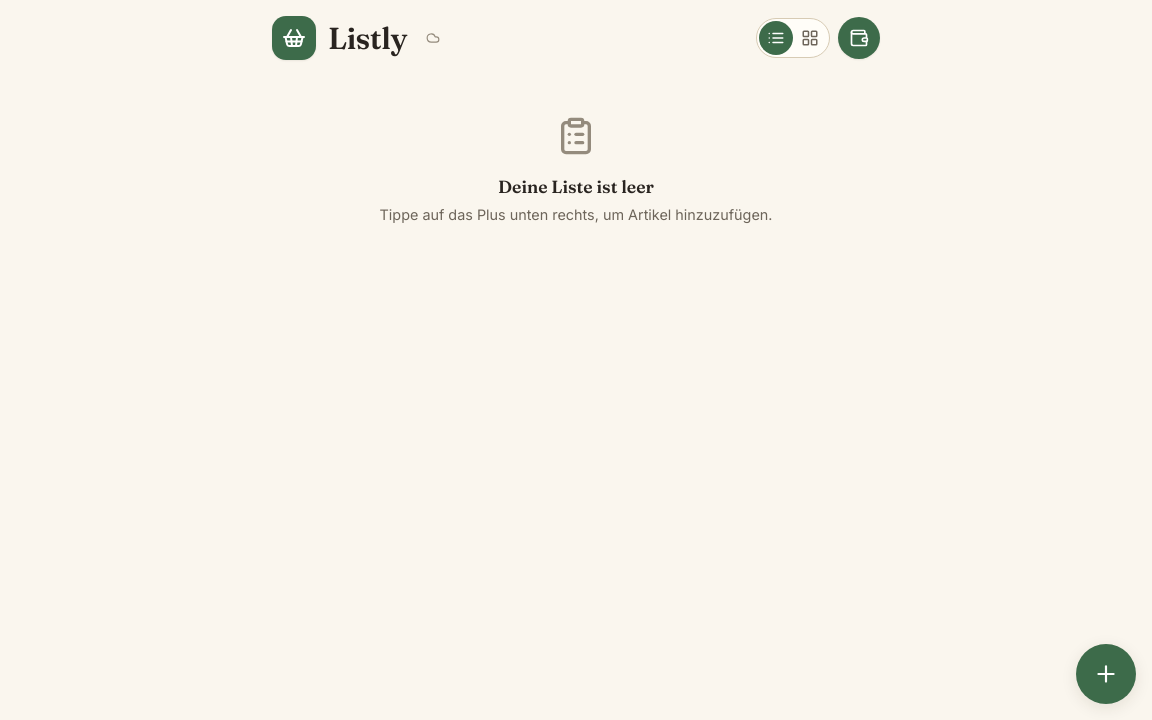
Test: Dubletten-Feedback beim Hinzufügen (local mode) › reaktiviert einen erledigten Artikel bei erneuter Eingabe statt ihn zu duplizieren
Click the button named "Artikel hinzufügen" at (1106, 674), box [1076,644,1136,704]
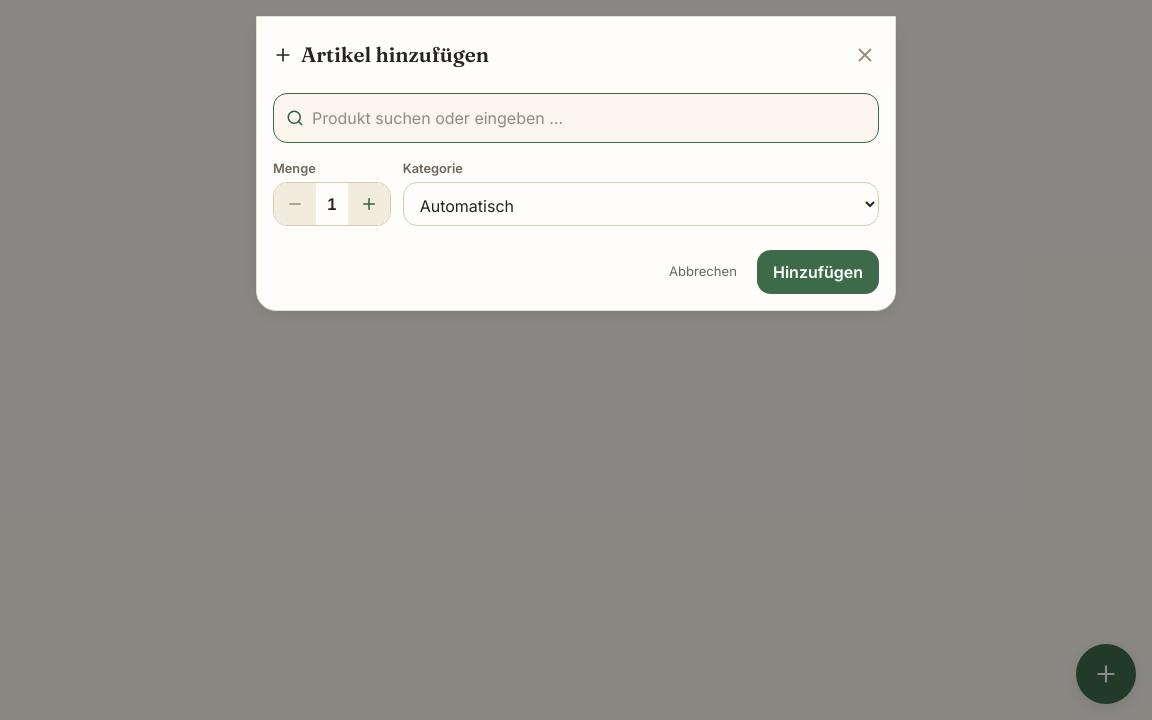
Type "Testartikel" into the dropdown named "Produkt suchen oder hinzufügen" at (589, 118), box [312,94,866,142]
Click the button "Hinzufügen" at (818, 272), box [757,250,879,294]
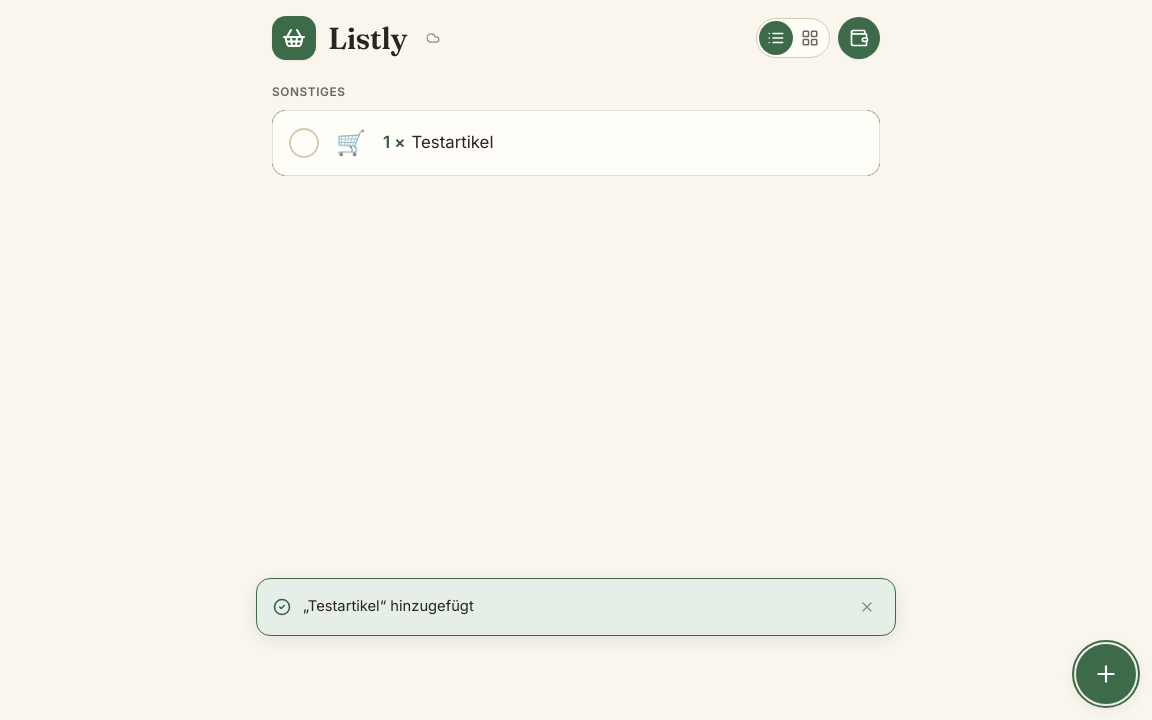
Expected: the text "Testartikel" is shown, [412,132,494,152]
Press Escape
Click the button with aria-label "Testartikel als erledigt markieren" at (452, 142), box [273,111,879,175]
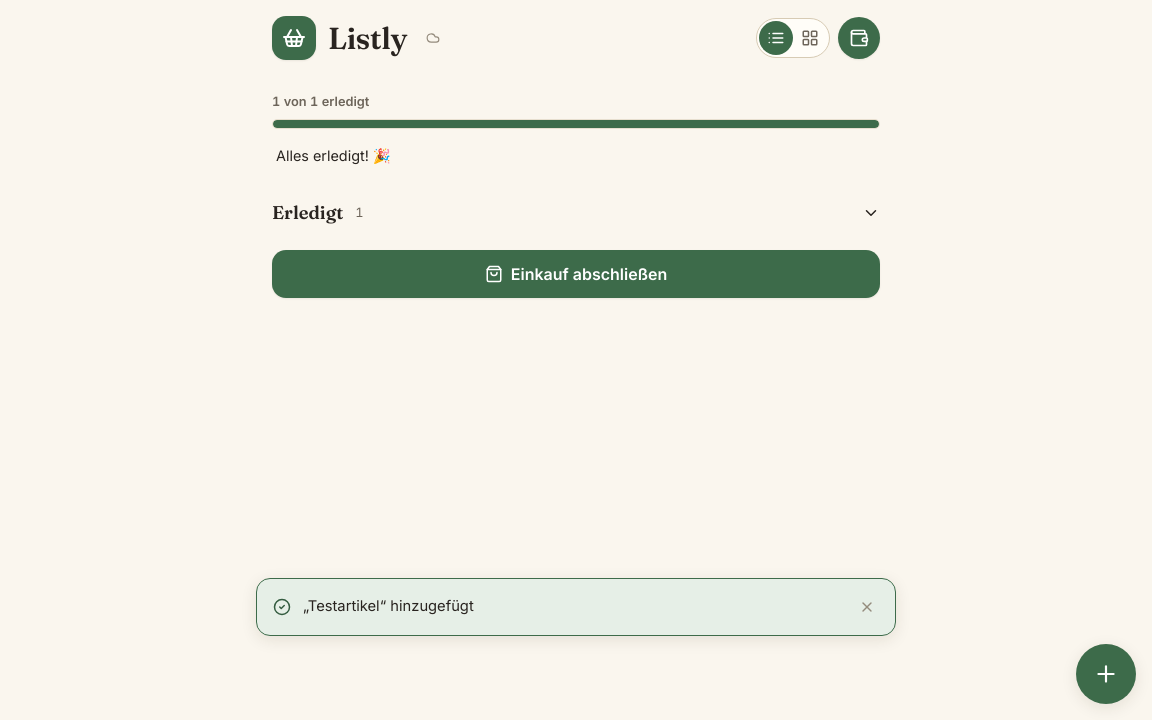
Click the button named "Artikel hinzufügen" at (1106, 674), box [1076,644,1136,704]
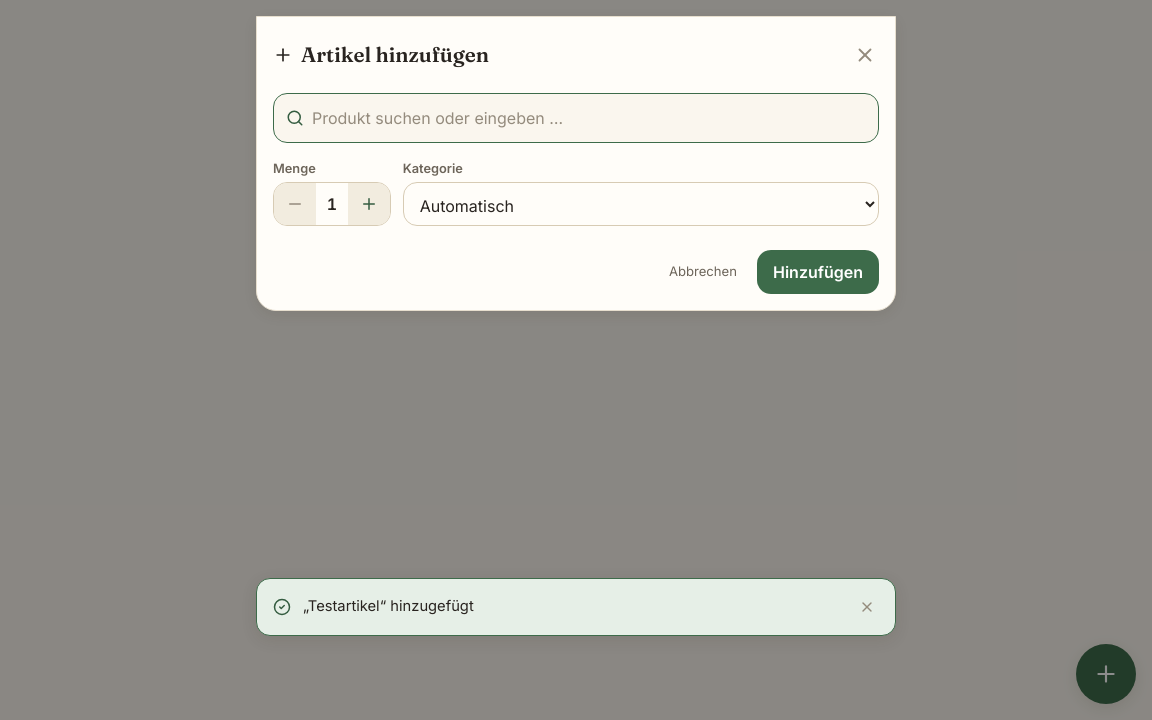
Type "testartikel" into the dropdown named "Produkt suchen oder hinzufügen" at (589, 118), box [312,94,866,142]
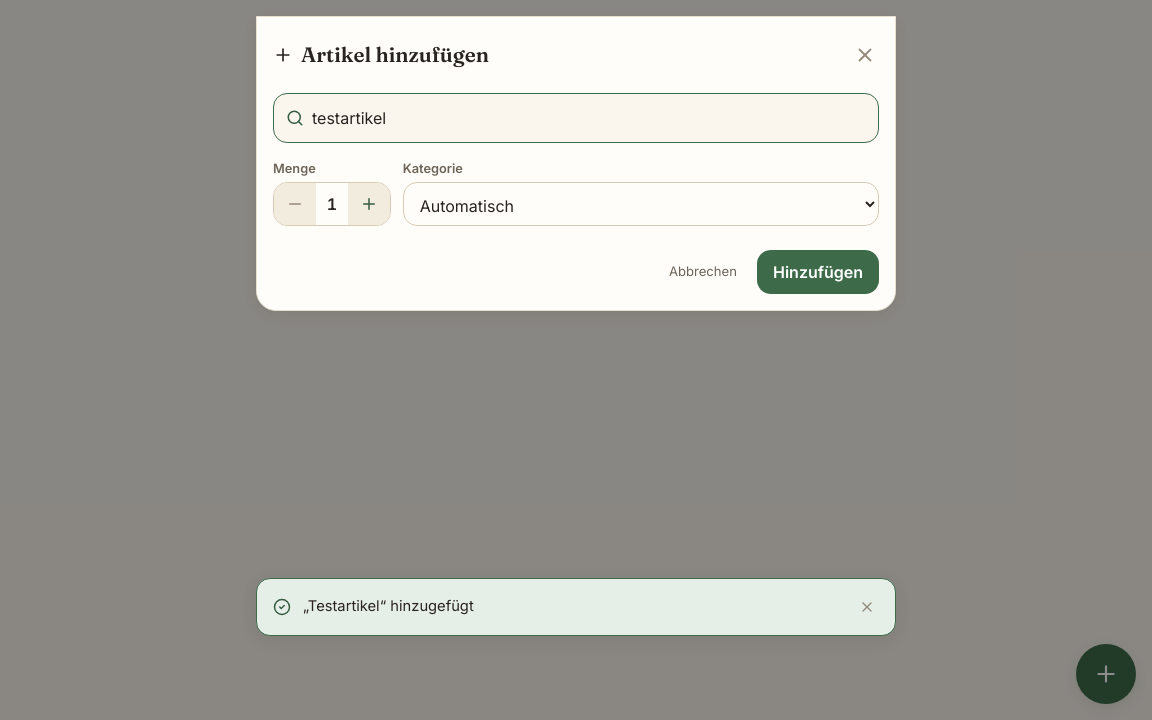
Click the button "Hinzufügen" at (818, 272), box [757,250,879,294]
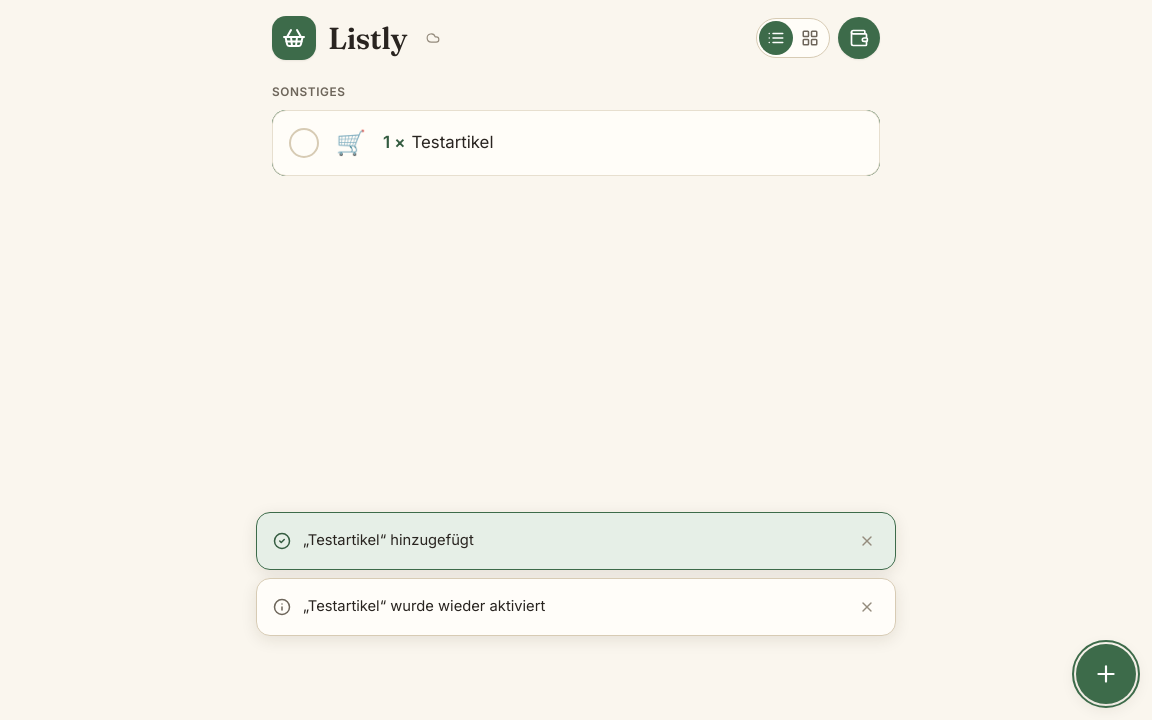
Expected: the button with aria-label "Testartikel als erledigt markieren" is shown, [273,111,879,175]
Expected: the text "Testartikel" is shown once, [383,132,494,152]
